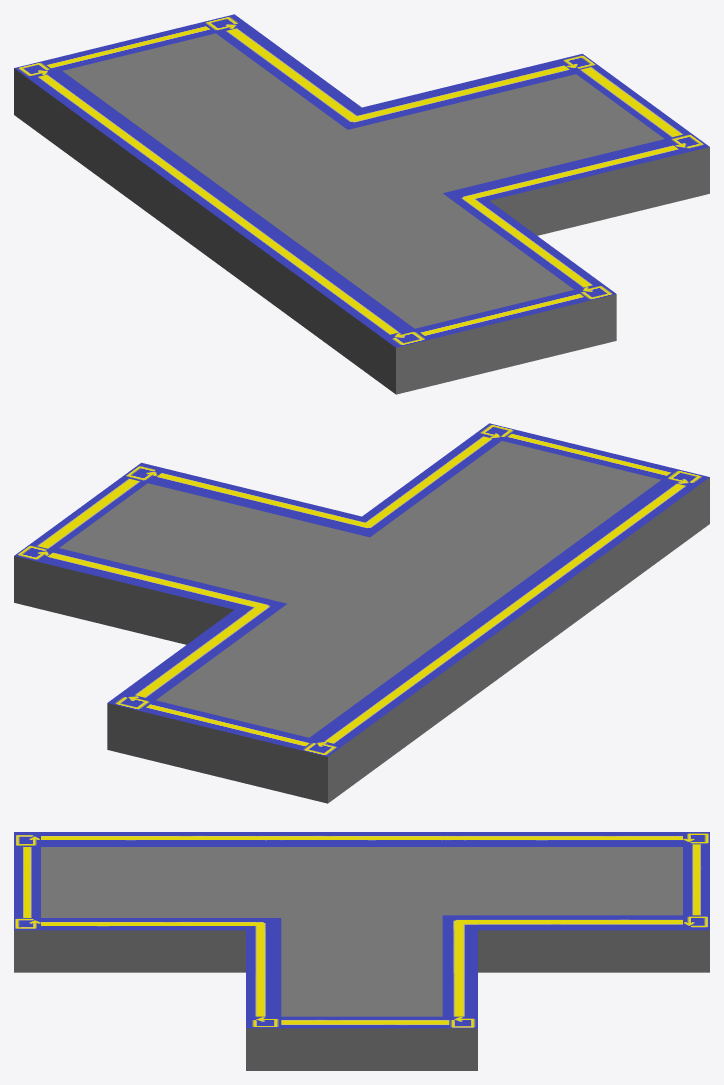
File: T_TypeObj.gltf
3 renders of one model, top to bottom at view 1: azimuth 30°, elevation 25°; view 2: azimuth 150°, elevation 25°; view 3: azimuth 270°, elevation 25°, orthographic. The views are drawn at different scales.
Parts seen in each view (by area): view 1: Cube.002, Cube.004, Cube.005, Cube.003; view 2: Cube.005, Cube.004, Cube.002, Cube.003; view 3: Cube.002, Cube.004, Cube.005, Cube.003.
Boxes of the visible parts, x1=… form: Cube.002: x1=268, y1=201, x2=616, y2=394; Cube.004: x1=362, y1=53, x2=709, y2=235; Cube.005: x1=14, y1=14, x2=361, y2=207; Cube.003: x1=141, y1=107, x2=488, y2=300; Cube.005: x1=107, y1=610, x2=455, y2=803; Cube.004: x1=14, y1=462, x2=361, y2=644; Cube.002: x1=362, y1=423, x2=709, y2=616; Cube.003: x1=235, y1=516, x2=582, y2=709; Cube.002: x1=14, y1=832, x2=245, y2=972; Cube.004: x1=246, y1=930, x2=477, y2=1070; Cube.005: x1=478, y1=832, x2=709, y2=972; Cube.003: x1=246, y1=832, x2=477, y2=930.
Bounding box in the file's own units: 7 × 0.71 × 10.5.
Materials: 1 (1 with a texture image).
